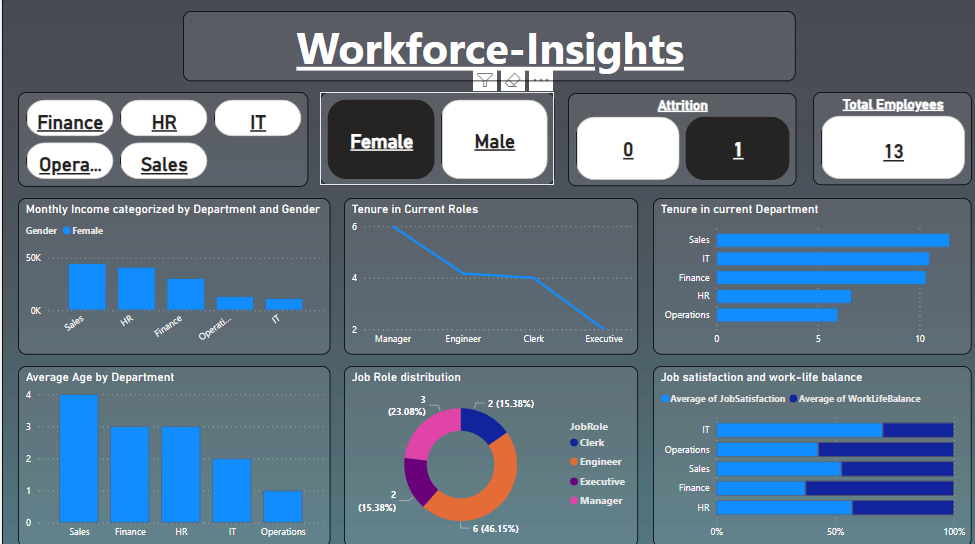

The dashboard page shown, as its layout file describes it:
{"tool":"powerbi","page":{"name":"Page 1","canvas":[1280,720],"ordinal":0},"visuals":[{"type":"donutChart","title":"Job Role distribution","fields":{"Y":["CountNonNull(employee_attrition_data.EmployeeID)"],"Series":["employee_attrition_data.JobRole"]},"box":[447.3,481.7,385.4,238.1],"z":0},{"type":"advancedSlicerVisual","fields":{"Values":["employee_attrition_data.Gender"]},"box":[415.7,122.5,306.9,122.5],"z":1000},{"type":"advancedSlicerVisual","fields":{"Values":["employee_attrition_data.Attrition"]},"box":[740.5,123.9,298.7,122.5],"z":2000},{"type":"advancedSlicerVisual","fields":{"Values":["employee_attrition_data.Department"]},"box":[20.6,122.5,379.9,123.9],"z":3000},{"type":"cardVisual","title":"Total Employees","fields":{"Data":["CountNonNull(employee_attrition_data.EmployeeID)"]},"box":[1061.2,122.5,207.8,122.5],"z":4000},{"type":"clusteredColumnChart","title":"Average  Age by Department","fields":{"Y":["CountNonNull(employee_attrition_data.Age)"],"Category":["employee_attrition_data.Department"]},"box":[20.6,481.7,408.8,238.1],"z":5000},{"type":"hundredPercentStackedBarChart","title":"Job satisfaction and work-life balance","fields":{"Category":["employee_attrition_data.Department"],"Y":["Avg(employee_attrition_data.JobSatisfaction)","Avg(employee_attrition_data.WorkLifeBalance)"]},"box":[852,481.7,417,238.1],"z":6000},{"type":"clusteredBarChart","title":"Tenure in current Department","fields":{"Category":["employee_attrition_data.Department"],"Y":["Avg(employee_attrition_data.YearsAtCompany)"]},"box":[852,261.5,417,205.1],"z":7000},{"type":"lineChart","title":"Tenure in Current Roles","fields":{"Category":["employee_attrition_data.JobRole"],"Y":["Avg(employee_attrition_data.YearsInCurrentRole)"]},"box":[447.3,261.5,385.4,205.1],"z":8000},{"type":"clusteredColumnChart","title":"Monthly Income categorized by Department and Gender","fields":{"Y":["Sum(employee_attrition_data.MonthlyIncome)"],"Category":["employee_attrition_data.Department"],"Series":["employee_attrition_data.Gender"]},"box":[20.6,261.5,408.8,205.1],"z":9000},{"type":"textbox","box":[237.6,17.3,802.1,92.2],"z":10000}]}

Visuals, with their boxes in screenshot pixels (x1, y1, x2, y2), scaled from the page's 1280x720 canvas onto the 975x544 screenshot:
"Job Role distribution" donutChart: [341, 364, 634, 543]
advancedSlicerVisual - employee_attrition_data.Gender: [317, 93, 550, 185]
advancedSlicerVisual - employee_attrition_data.Attrition: [564, 94, 792, 186]
advancedSlicerVisual - employee_attrition_data.Department: [16, 93, 305, 186]
"Total Employees" cardVisual: [808, 93, 967, 185]
"Average  Age by Department" clusteredColumnChart: [16, 364, 327, 543]
"Job satisfaction and work-life balance" hundredPercentStackedBarChart: [649, 364, 967, 543]
"Tenure in current Department" clusteredBarChart: [649, 198, 967, 353]
"Tenure in Current Roles" lineChart: [341, 198, 634, 353]
"Monthly Income categorized by Department and Gender" clusteredColumnChart: [16, 198, 327, 353]
textbox: [181, 13, 792, 83]
